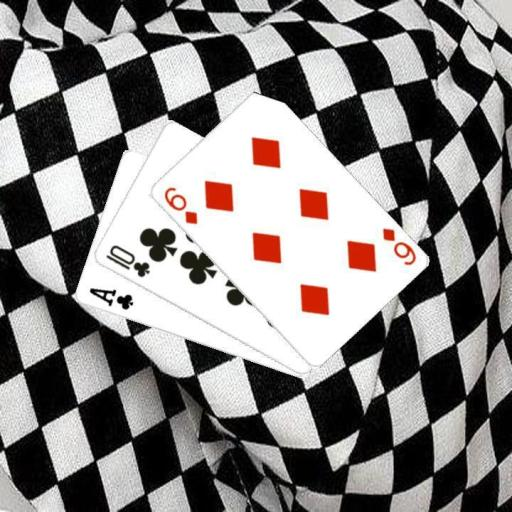card-corner: (102, 242, 152, 279), (378, 224, 418, 267), (160, 184, 199, 226), (86, 285, 134, 312)
